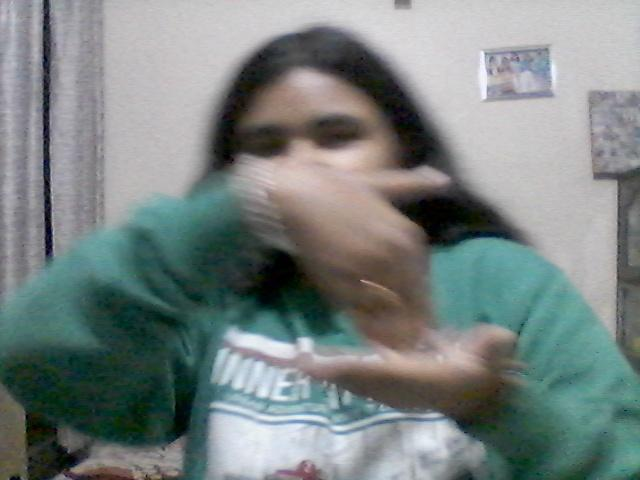repeat: (268, 164, 504, 406)
